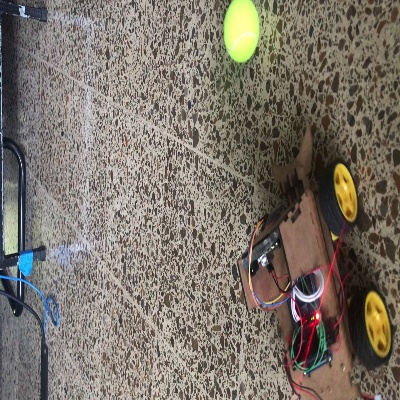Ball: (223, 0, 258, 61)
Robot: (237, 123, 393, 397)
